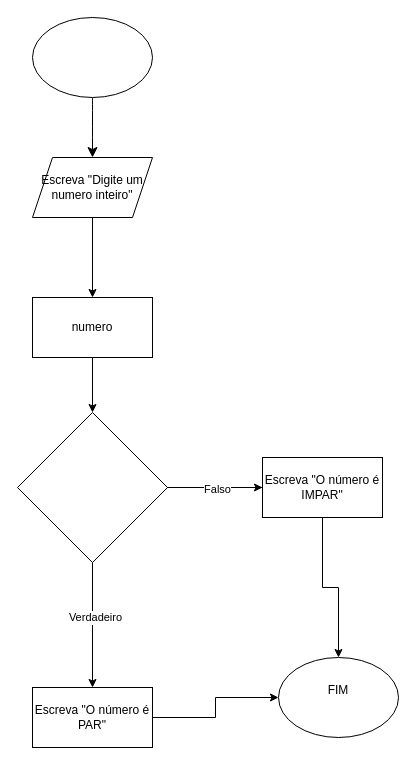
The diagram is 416 pixels wide and 765 high, and some of its shapes have lost their labels. The shapes that lost their labels are listed below. From the top down, each one's centre as x and y in pixels, then its label:
the point at 92,57: Inicio
the point at 92,487: se numero MOD 2 = 0
